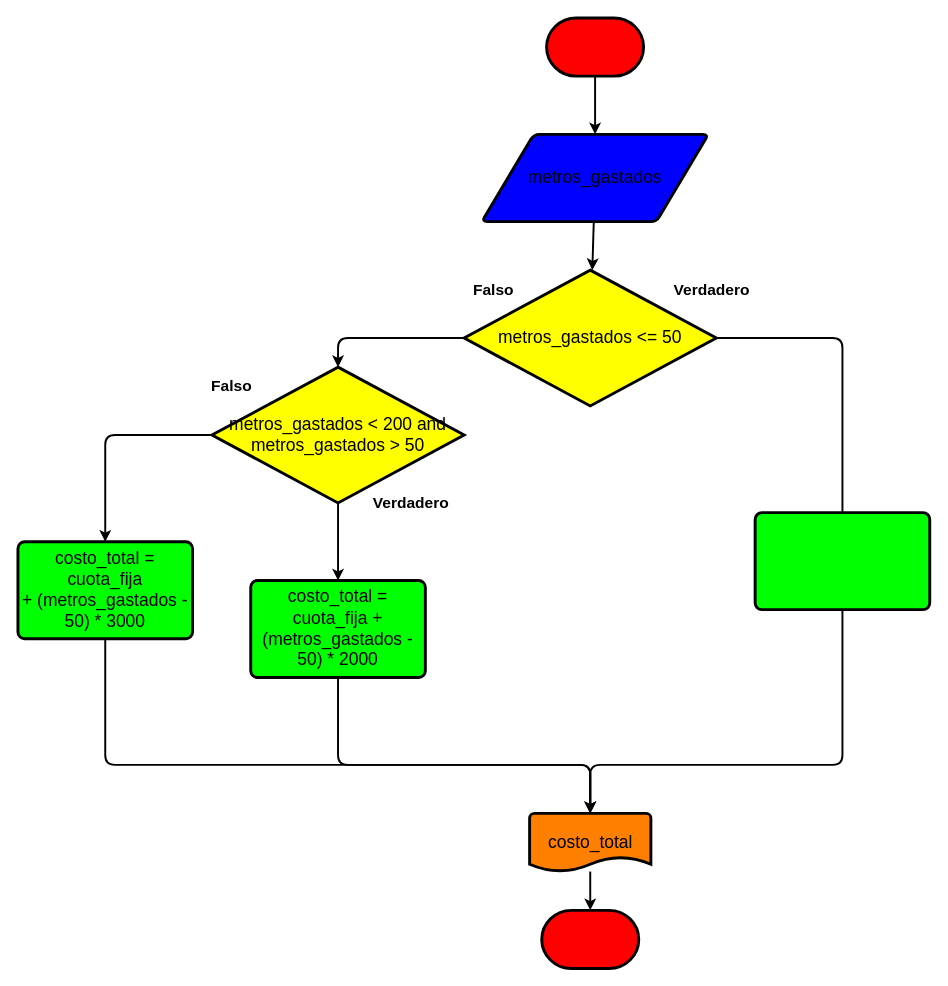
The diagram is 948 pixels wide and 986 high, and some of its shapes have lost their labels. The shapes that lost their labels are listed below. From the top down, each one's centre as x and y in pixels, then its label:
At (595,46): "INICIO".
At (842,561): "costo_total = cuota_fija".
At (590,939): "FIN".
